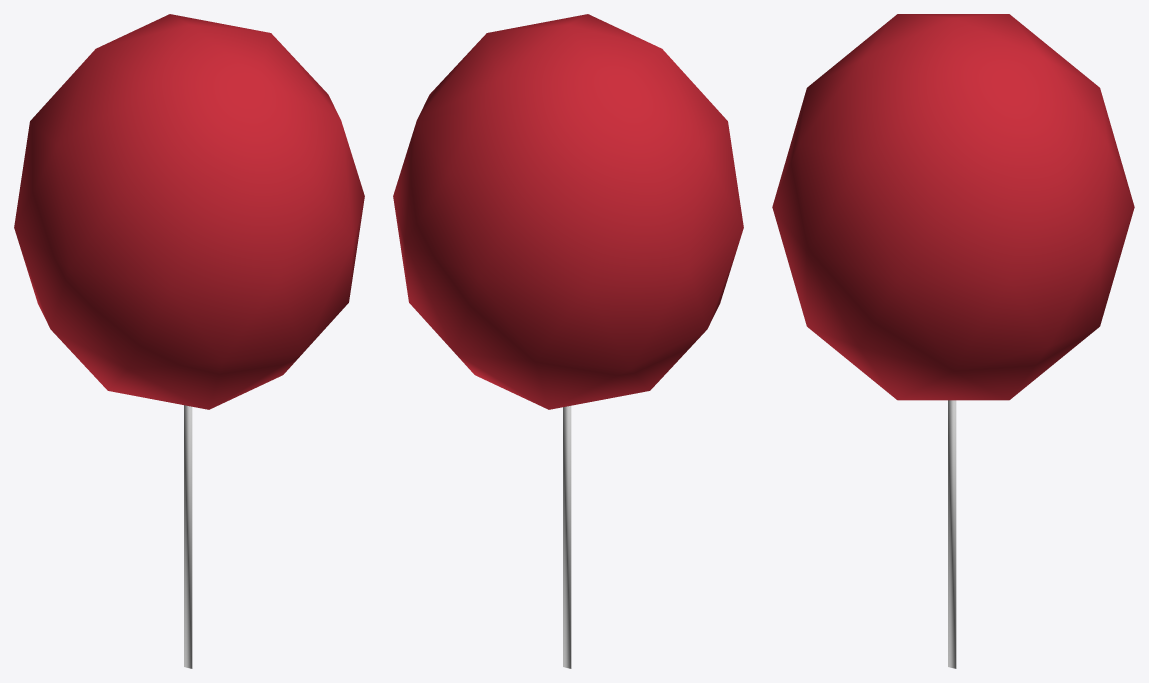
Rendered from shiny_red_balloon.glb.
3 views of the same model, side by side, from view 1: azimuth 30°, elevation 25°; view 2: azimuth 150°, elevation 25°; view 3: azimuth 270°, elevation 25° (orthographic).
Visible parts, largest first — view 1: shiny_red_balloon_v0; view 2: shiny_red_balloon_v0; view 3: shiny_red_balloon_v0.
Boxes of the visible parts, bbox=[...] form: shiny_red_balloon_v0: bbox=[14, 14, 364, 668]; shiny_red_balloon_v0: bbox=[393, 14, 743, 668]; shiny_red_balloon_v0: bbox=[772, 14, 1134, 668].
Bounding box in the file's own units: 0.1902 × 0.395 × 0.2.
